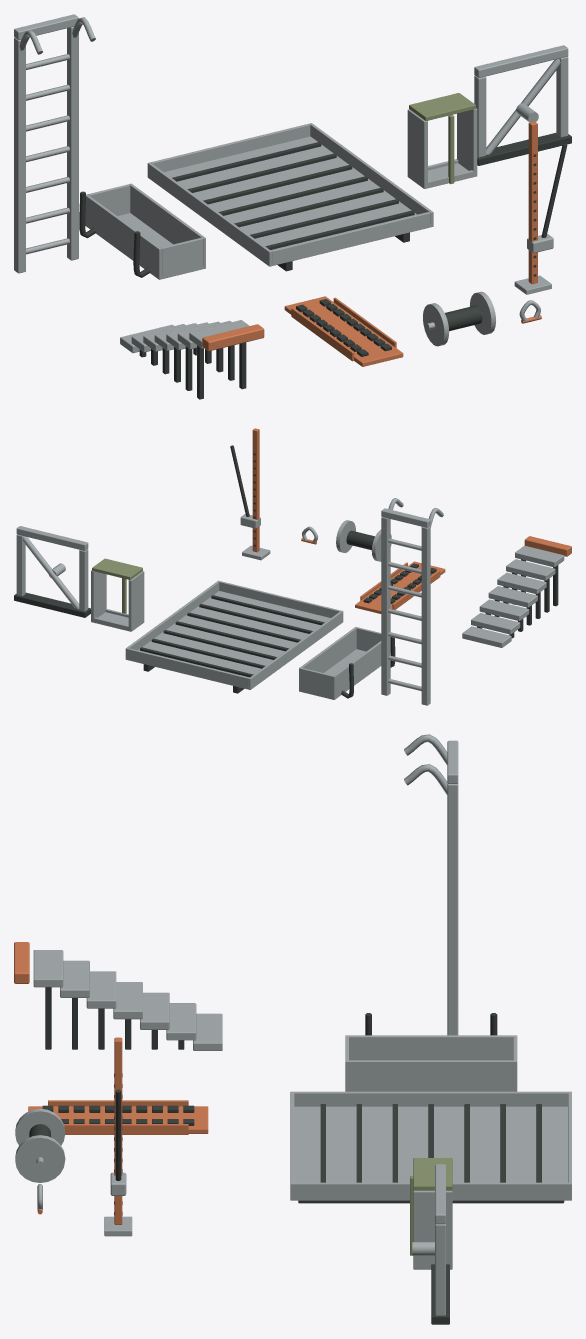
Rendered from survivor-vehicle-maintenance-expedition-cargo-refit-32643d1a__26685.glb.
3 renders of one model, top to bottom at view 1: azimuth 30°, elevation 25°; view 2: azimuth 150°, elevation 25°; view 3: azimuth 270°, elevation 25°, orthographic. The views are drawn at different scales.
Visible parts, largest first — view 1: 000-roof-cargo-platform/0, 004-roof-access-ladder/0, 001-side-cargo-basket/0, 000-roof-cargo-platform/1, 003-spare-wheel-carrier/0, 002-rear-jerrycan-frame/0, 005-recovery-track/0, 009-vehicle-service-ramp/0, 009-vehicle-service-ramp/1, 007-winch-drum/1, 002-rear-jerrycan-frame/1, 006-hi-lift-jack/1 (+7 smaller); view 2: 000-roof-cargo-platform/0, 004-roof-access-ladder/0, 009-vehicle-service-ramp/0, 001-side-cargo-basket/0, 000-roof-cargo-platform/1, 003-spare-wheel-carrier/0, 002-rear-jerrycan-frame/0, 005-recovery-track/0, 006-hi-lift-jack/1, 002-rear-jerrycan-frame/1, 009-vehicle-service-ramp/1, 003-spare-wheel-carrier/1 (+6 smaller); view 3: 000-roof-cargo-platform/0, 001-side-cargo-basket/0, 009-vehicle-service-ramp/0, 004-roof-access-ladder/0, 000-roof-cargo-platform/1, 005-recovery-track/0, 007-winch-drum/1, 003-spare-wheel-carrier/0, 002-rear-jerrycan-frame/0, 009-vehicle-service-ramp/1, 005-recovery-track/1, 002-rear-jerrycan-frame/1 (+2 smaller).
Boxes of the visible parts, x1,y1,x2,y2 form: 000-roof-cargo-platform/0: (147, 123, 433, 266); 004-roof-access-ladder/0: (14, 14, 95, 273); 001-side-cargo-basket/0: (85, 183, 205, 279); 000-roof-cargo-platform/1: (172, 142, 414, 271); 003-spare-wheel-carrier/0: (474, 45, 568, 157); 002-rear-jerrycan-frame/0: (407, 108, 477, 188); 005-recovery-track/0: (284, 296, 403, 366); 009-vehicle-service-ramp/0: (120, 320, 249, 353); 009-vehicle-service-ramp/1: (139, 342, 246, 399); 007-winch-drum/1: (423, 291, 495, 346); 002-rear-jerrycan-frame/1: (409, 93, 475, 184); 006-hi-lift-jack/1: (528, 121, 537, 284); 000-roof-cargo-platform/0: (125, 580, 343, 689); 004-roof-access-ladder/0: (381, 498, 443, 705); 009-vehicle-service-ramp/0: (462, 545, 564, 647); 001-side-cargo-basket/0: (299, 627, 390, 699); 000-roof-cargo-platform/1: (140, 595, 324, 693); 003-spare-wheel-carrier/0: (16, 526, 88, 611); 002-rear-jerrycan-frame/0: (91, 570, 144, 631); 005-recovery-track/0: (355, 561, 445, 613); 006-hi-lift-jack/1: (252, 428, 259, 552); 002-rear-jerrycan-frame/1: (92, 558, 142, 613); 009-vehicle-service-ramp/1: (477, 559, 558, 638); 003-spare-wheel-carrier/1: (14, 592, 90, 617); 000-roof-cargo-platform/0: (290, 1091, 571, 1200); 001-side-cargo-basket/0: (345, 1035, 517, 1091); 009-vehicle-service-ramp/0: (33, 950, 222, 1050); 004-roof-access-ladder/0: (404, 734, 458, 1035); 000-roof-cargo-platform/1: (298, 1104, 564, 1203); 005-recovery-track/0: (28, 1100, 208, 1134); 007-winch-drum/1: (15, 1108, 65, 1182); 003-spare-wheel-carrier/0: (412, 1164, 445, 1315); 002-rear-jerrycan-frame/0: (413, 1190, 452, 1269); 009-vehicle-service-ramp/1: (45, 987, 184, 1049); 005-recovery-track/1: (42, 1105, 194, 1125); 002-rear-jerrycan-frame/1: (410, 1158, 452, 1255).
Bounding box in the file's own units: 4.66 × 2.02 × 3.57.
